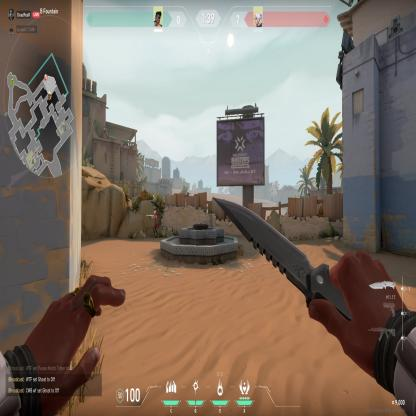enemy: (152, 209, 158, 239)
